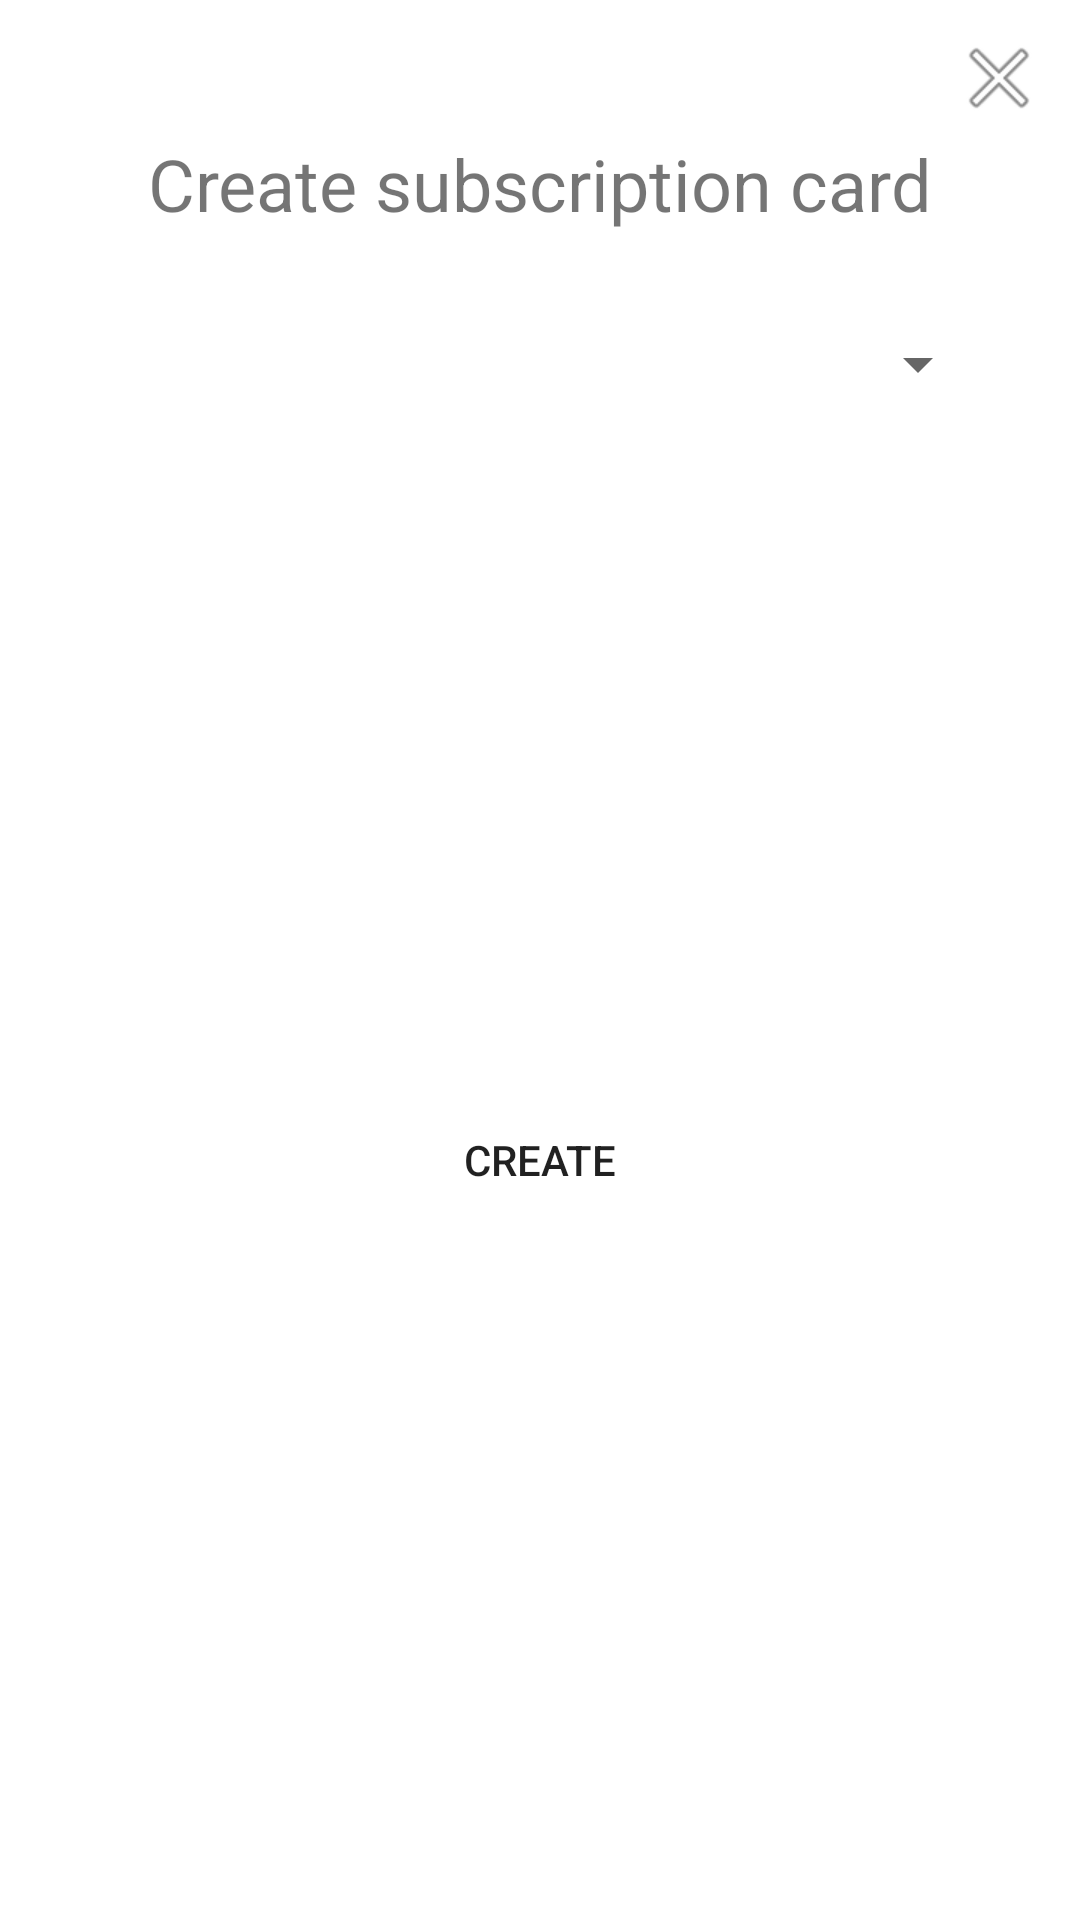

Screen size 1080 × 1920. Icon name, then its center in pixels as (x=x, y=y):
close clear cancel: (x=999, y=78)
